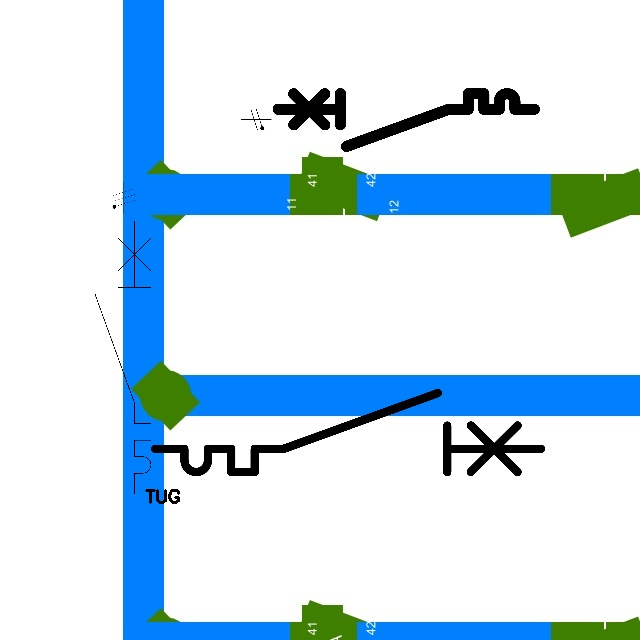interruptor_termomagnetico: (145, 383, 551, 482), (88, 214, 158, 500), (271, 87, 541, 153)
